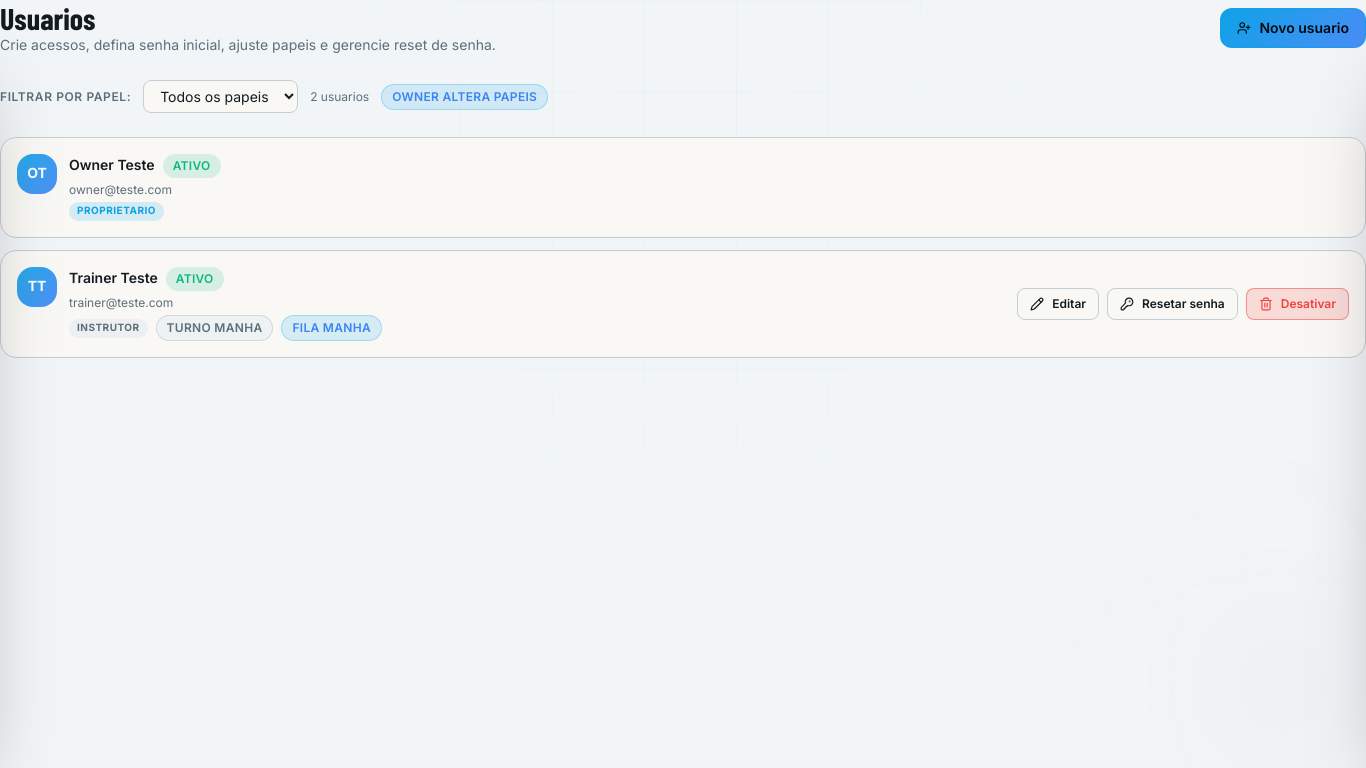
Test: UsersPage › uploads a team avatar from the edit drawer without asking for an image URL
Expected: the text "Trainer Teste" is shown, [69,269,158,289]
Click the button "Editar". click: {"x": 1058, "y": 304}
box: [1017,288,1099,320]
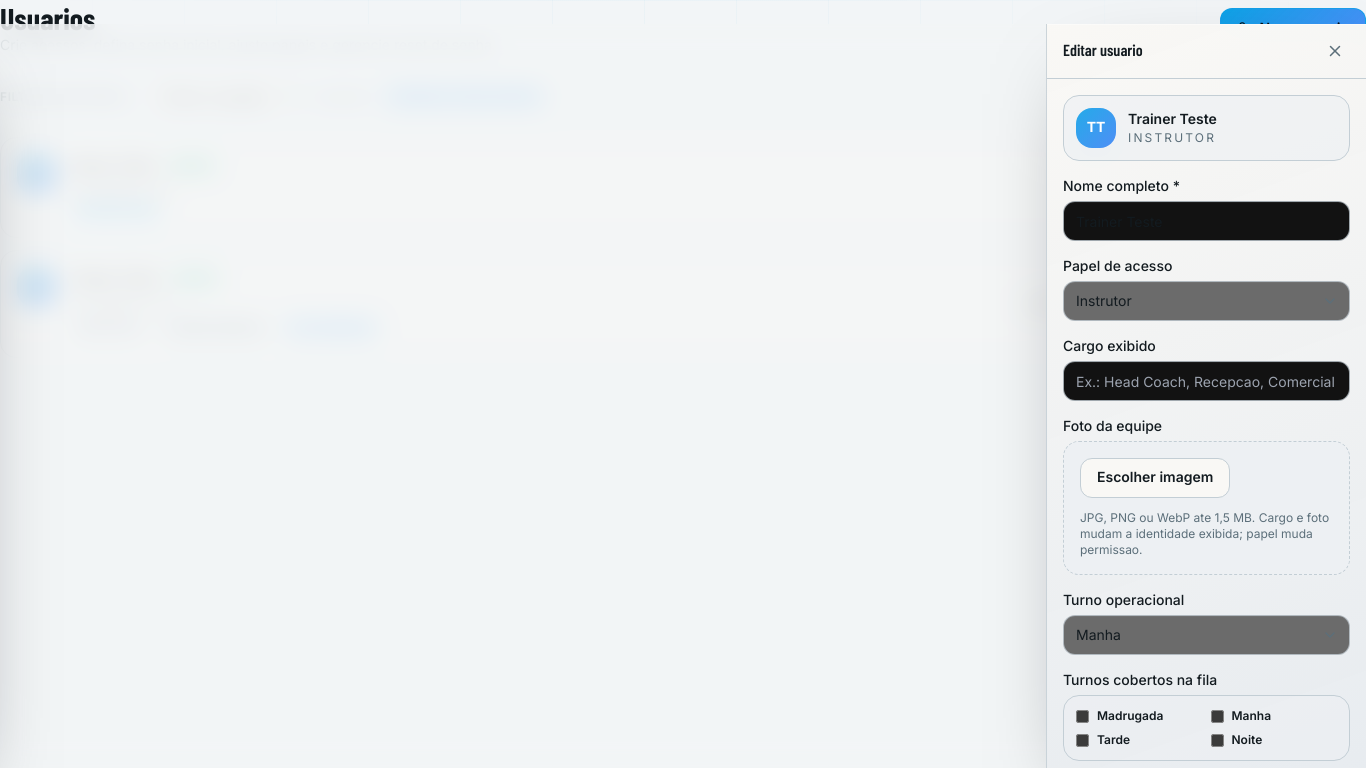
Expected: the text "Cargo e foto mudam a identidade exibida" is shown, [1080,510,1329,557]
